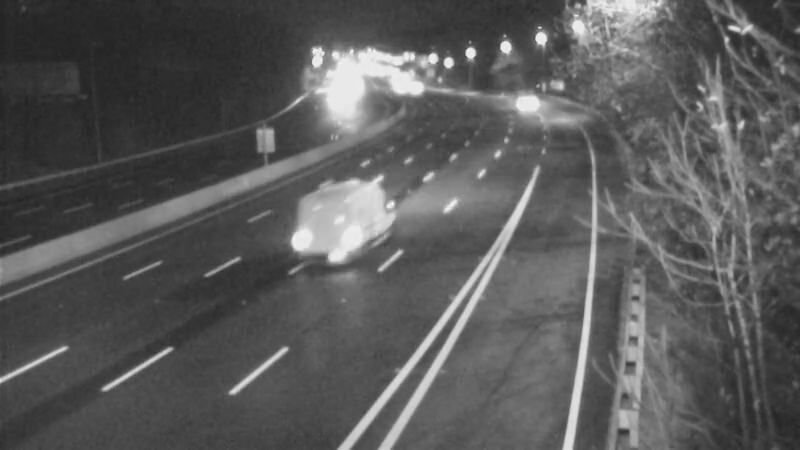vehicle: (290, 179, 370, 259), (490, 77, 540, 127)
